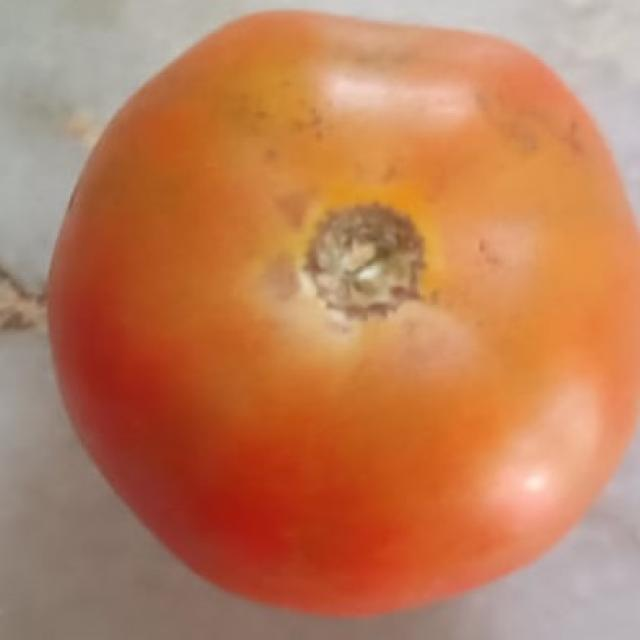ripe tomato: (25, 6, 637, 619)
